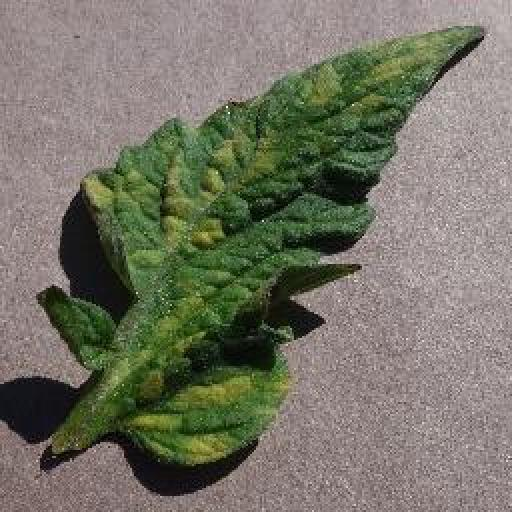Leaf Mold: (42, 24, 488, 465)
